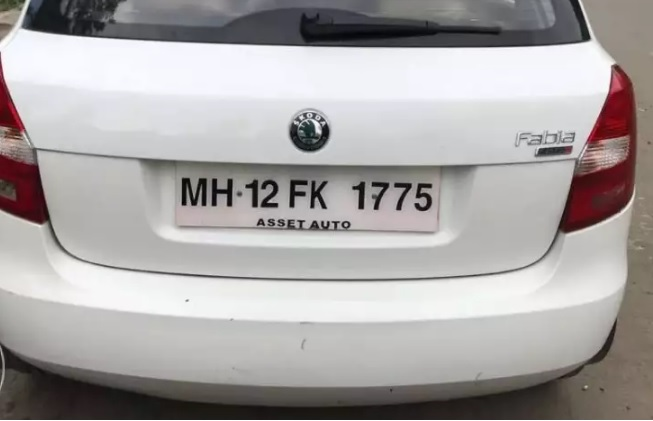licenseplate: (174, 156, 442, 235)
